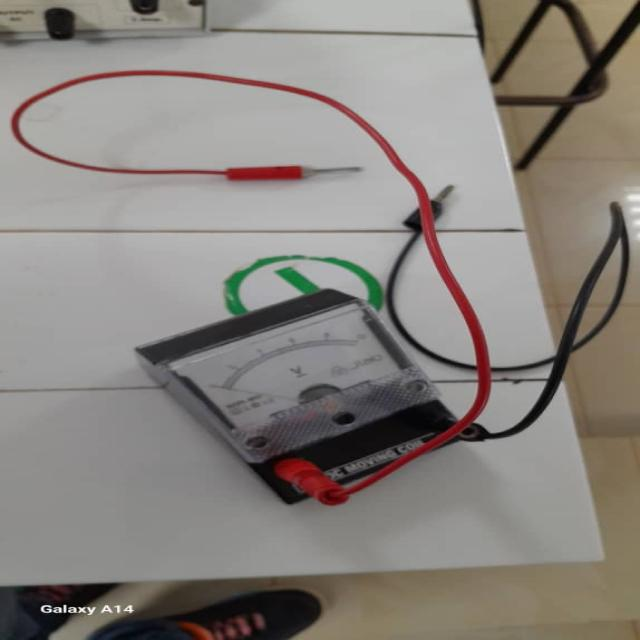Voltmeter: (25, 79, 577, 508)
